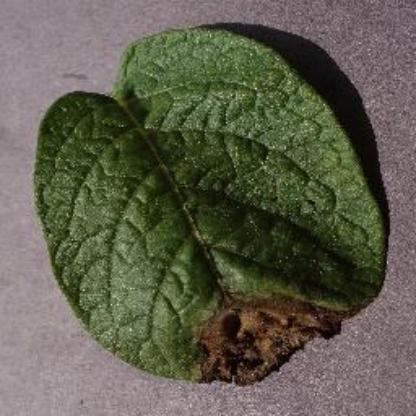Late-Blight: (28, 24, 397, 396)
